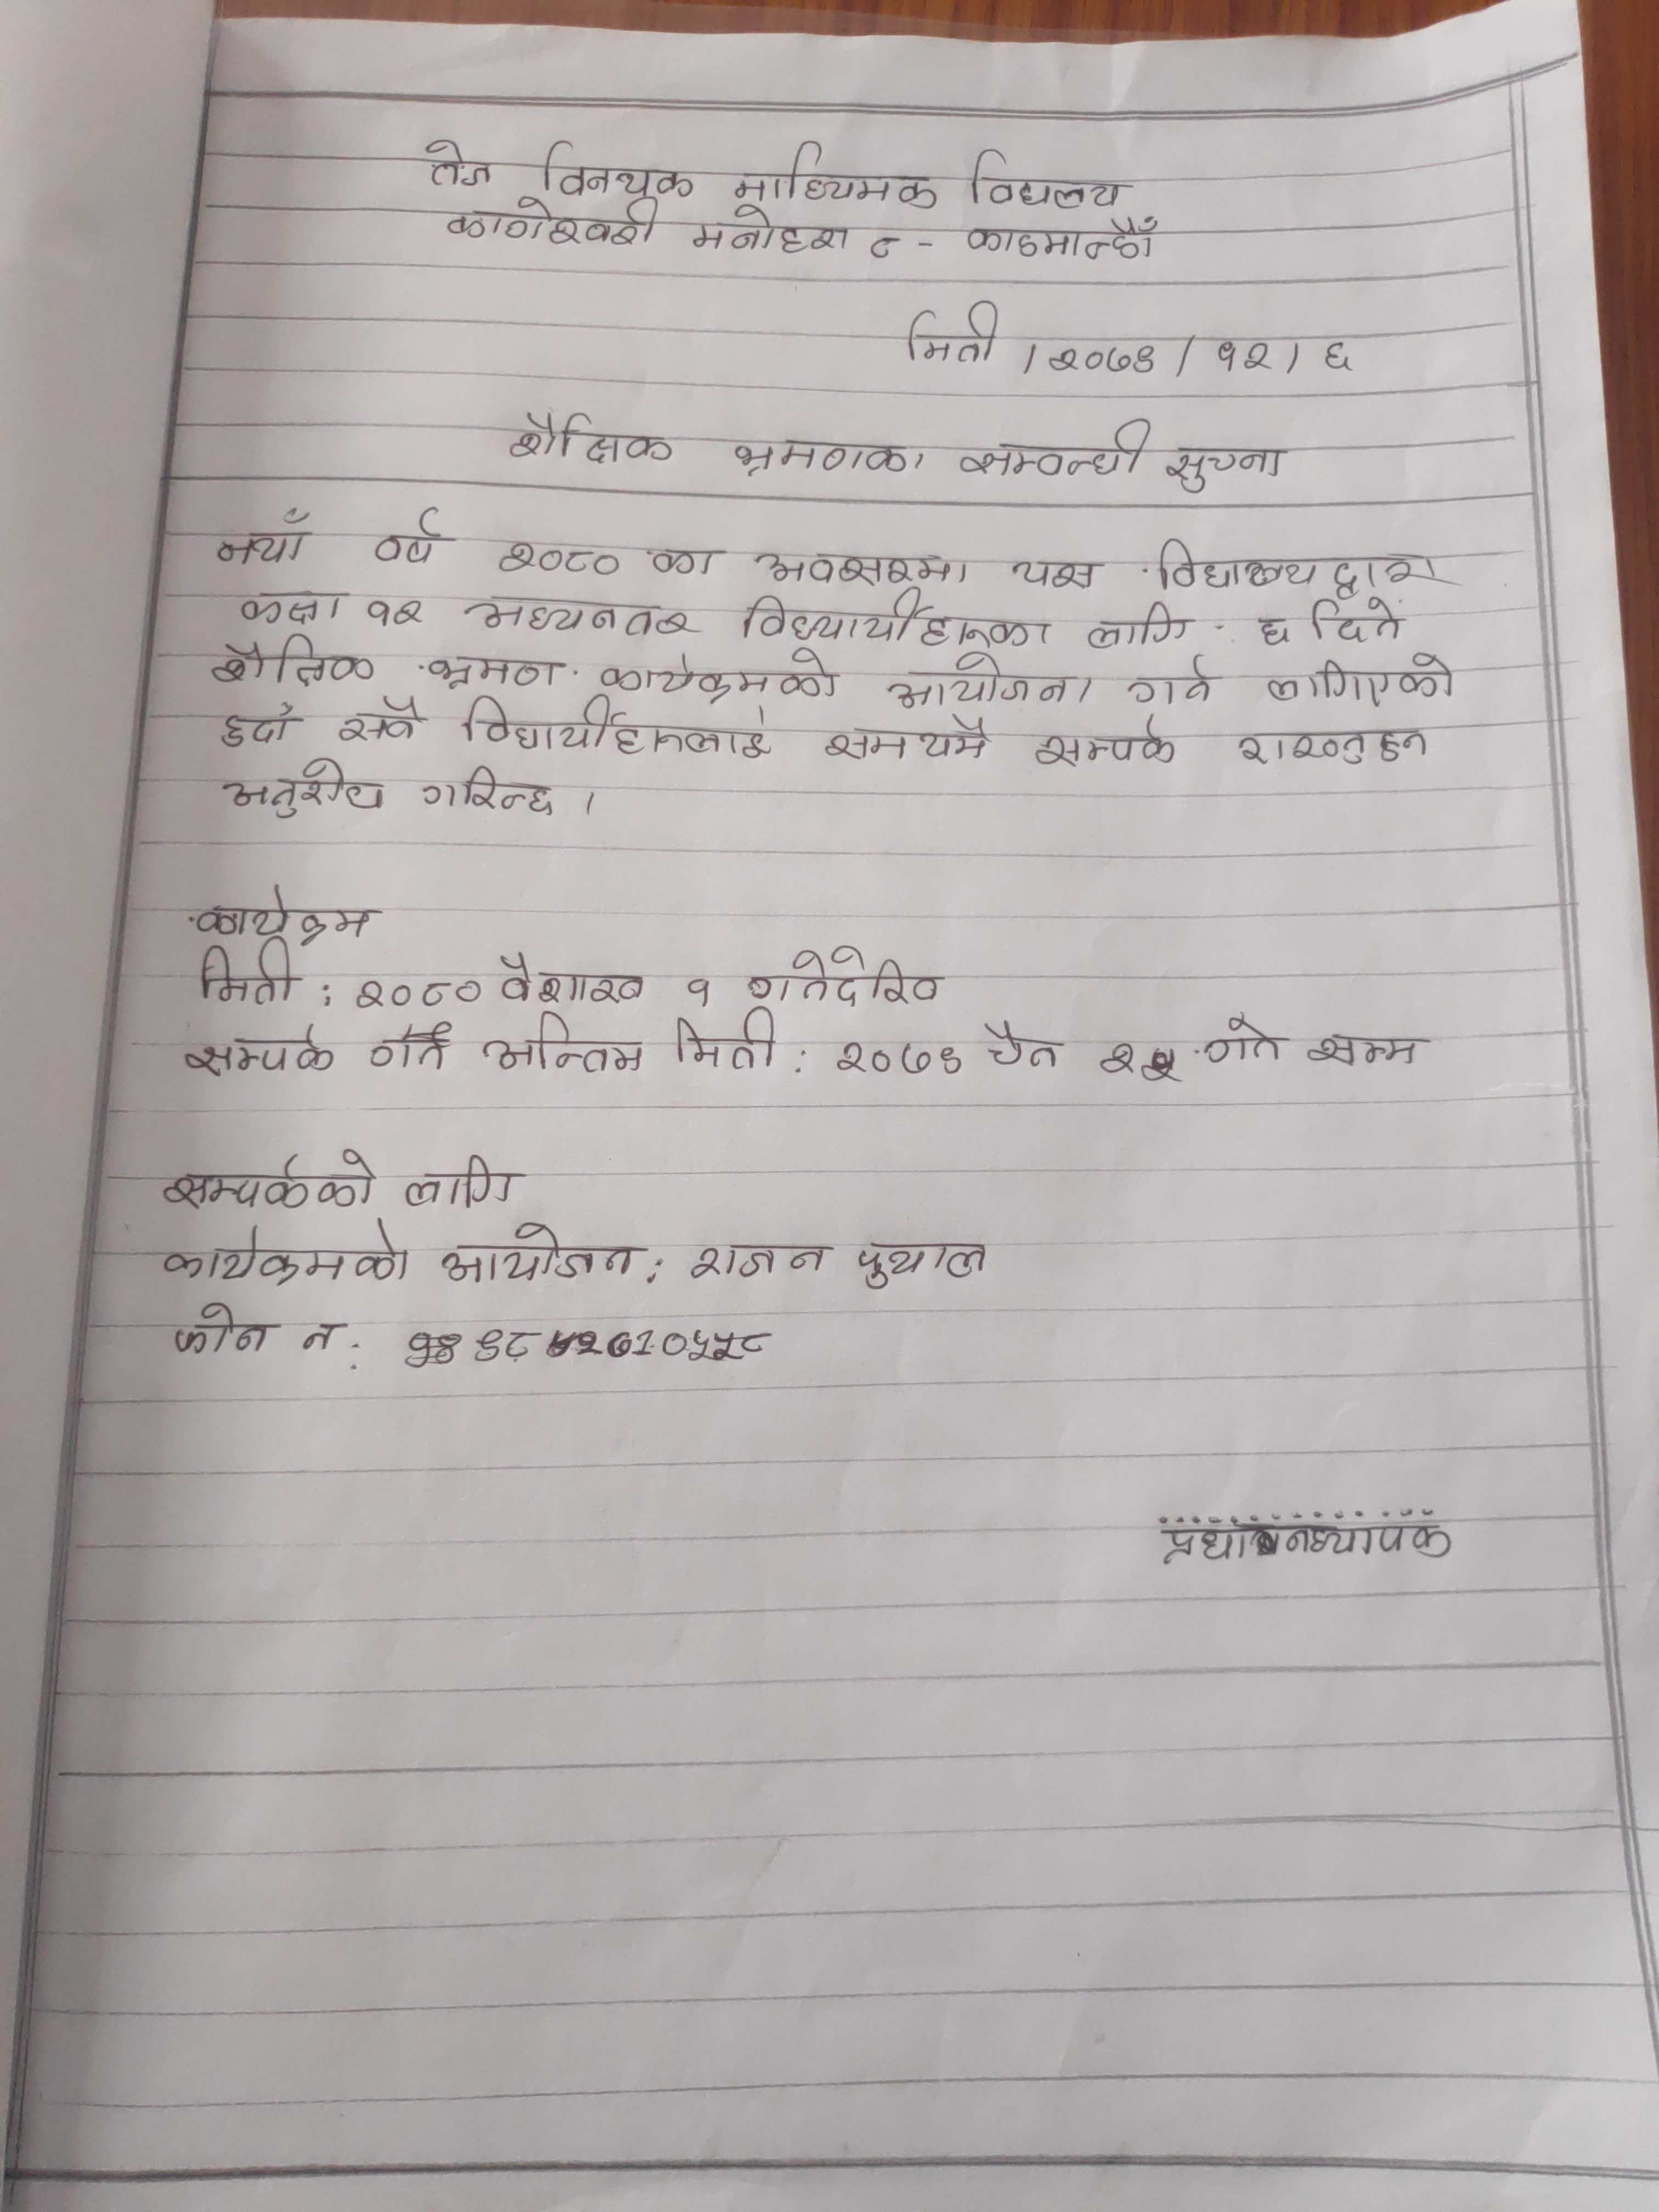text: (460, 698, 769, 770), (744, 587, 1056, 653), (1157, 535, 1443, 597), (1042, 333, 1368, 385), (155, 1223, 411, 1289), (162, 1148, 385, 1217), (472, 1320, 774, 1369), (734, 141, 939, 212), (598, 650, 838, 709), (950, 413, 1155, 481), (1154, 1522, 1453, 1568), (884, 655, 1098, 718), (739, 946, 946, 1008), (437, 1226, 640, 1287), (443, 197, 662, 251), (218, 754, 387, 822), (479, 1005, 647, 1073), (748, 542, 972, 590), (971, 141, 1122, 211), (188, 881, 366, 939), (1263, 657, 1460, 707), (185, 1019, 335, 1085), (537, 141, 699, 202), (471, 601, 697, 644), (730, 430, 925, 481), (964, 214, 1164, 263), (209, 636, 382, 690), (1227, 725, 1432, 770), (1030, 712, 1180, 773), (824, 712, 993, 766), (509, 411, 676, 465), (491, 954, 650, 1010), (690, 204, 856, 256), (687, 1235, 830, 1287), (200, 935, 300, 1010), (849, 1238, 995, 1289), (211, 502, 319, 568), (415, 766, 563, 813), (906, 301, 1000, 374), (399, 1157, 519, 1212), (828, 1033, 969, 1080), (666, 1015, 781, 1073), (1164, 442, 1293, 493), (491, 536, 627, 580), (352, 968, 486, 1012), (169, 1303, 272, 1359), (425, 651, 568, 691), (1086, 601, 1195, 650), (978, 1015, 1065, 1076), (1304, 1029, 1424, 1073), (1124, 657, 1218, 711), (1309, 594, 1408, 644), (369, 507, 446, 571), (336, 697, 423, 751), (420, 138, 498, 197), (364, 1028, 458, 1076), (1202, 1012, 1286, 1066), (239, 589, 350, 629), (1098, 1042, 1178, 1092), (221, 704, 300, 749), (647, 540, 720, 582), (1016, 554, 1094, 592), (368, 592, 430, 631), (300, 1318, 347, 1359), (1251, 613, 1293, 653), (683, 974, 720, 1017), (864, 232, 899, 268)
